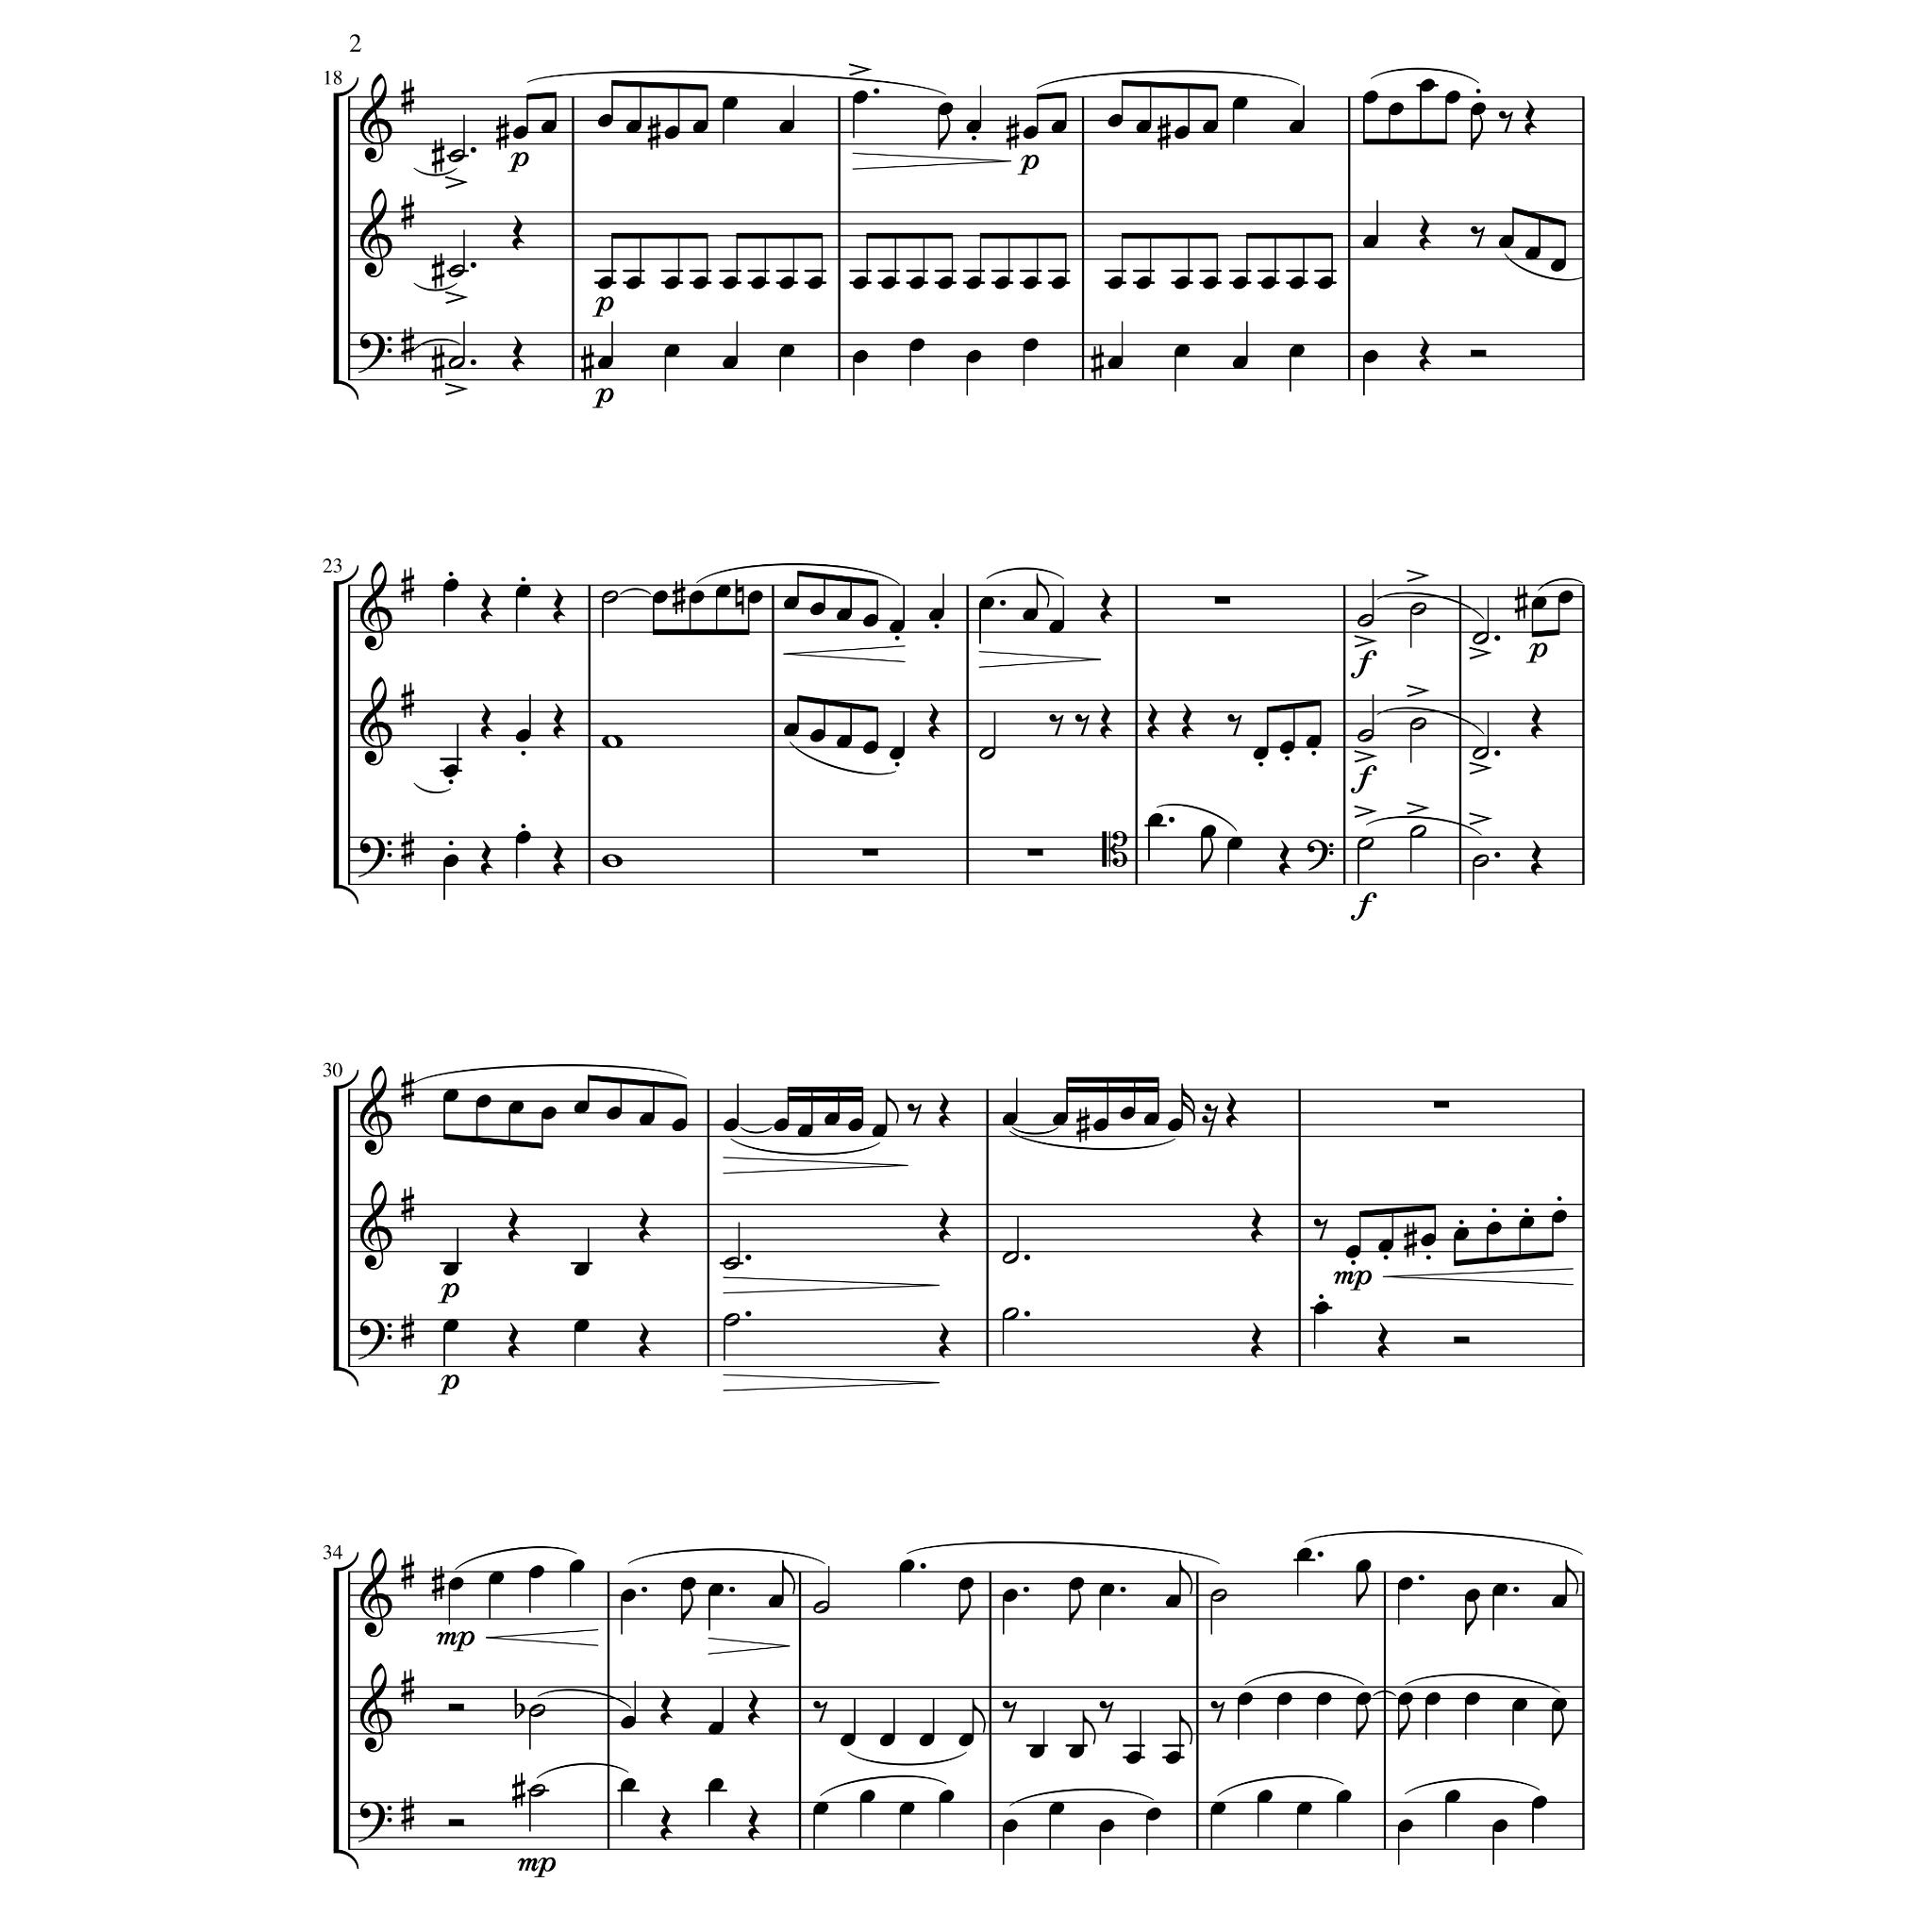fClef: (357, 332, 392, 374), (357, 837, 392, 878), (357, 1319, 392, 1360), (357, 1802, 392, 1843)
flag16thUp: (1181, 1085, 1196, 1124)
flag8thDown: (938, 115, 951, 151), (1201, 838, 1214, 874), (1356, 1572, 1369, 1607), (958, 1590, 972, 1625), (1398, 1706, 1411, 1740), (1356, 1706, 1369, 1740), (1472, 115, 1483, 151), (1070, 1590, 1081, 1625), (1553, 1710, 1564, 1746), (1466, 1600, 1477, 1636), (681, 1590, 692, 1625)
flag8thUp: (781, 1560, 796, 1596), (885, 1091, 900, 1124), (1036, 574, 1049, 609), (1179, 1560, 1192, 1596), (1566, 1560, 1579, 1596), (1083, 1711, 1096, 1745), (1179, 1711, 1192, 1745), (973, 1700, 986, 1734)
gClef: (359, 188, 391, 278), (359, 74, 391, 164), (359, 676, 391, 767), (359, 561, 391, 652), (359, 1180, 391, 1271), (359, 1065, 391, 1156), (359, 1663, 391, 1754), (359, 1548, 391, 1639)
noteheadBlack: (1202, 275, 1219, 291), (1174, 275, 1191, 291), (1174, 343, 1191, 358), (1289, 275, 1306, 291), (1289, 343, 1306, 358), (1317, 275, 1334, 291), (1470, 102, 1487, 117), (596, 113, 613, 128), (596, 275, 613, 291), (1226, 836, 1243, 851), (1200, 824, 1217, 840), (1530, 596, 1547, 611), (441, 764, 458, 779), (889, 619, 906, 634), (862, 613, 879, 628), (928, 608, 945, 623), (809, 602, 826, 617), (809, 728, 826, 743), (1119, 1106, 1136, 1121), (1551, 1209, 1568, 1224), (1485, 1221, 1502, 1236), (1453, 1226, 1470, 1241), (508, 1100, 525, 1115), (606, 1106, 623, 1121), (441, 1319, 458, 1334), (441, 1262, 458, 1277), (441, 1089, 458, 1104), (1098, 1819, 1115, 1834), (1164, 1594, 1181, 1609), (1164, 1751, 1181, 1766), (1145, 1807, 1162, 1823), (1551, 1594, 1568, 1609), (1396, 1819, 1413, 1834), (1355, 1558, 1372, 1574), (708, 1777, 724, 1792), (708, 1721, 724, 1736), (568, 1558, 585, 1574), (898, 1558, 915, 1574), (994, 275, 1009, 291), (1260, 275, 1275, 291), (1232, 96, 1247, 111), (1232, 275, 1247, 291), (1023, 275, 1038, 291), (1023, 338, 1038, 353), (1108, 113, 1123, 128), (1108, 275, 1123, 291), (1051, 275, 1066, 291), (1136, 275, 1151, 291), (1363, 349, 1378, 364), (1389, 102, 1404, 117), (664, 275, 679, 291), (664, 343, 679, 358), (626, 275, 641, 291), (881, 275, 896, 291), (853, 275, 868, 291), (853, 349, 868, 364), (966, 275, 981, 291), (966, 349, 981, 364), (909, 275, 924, 291), (909, 338, 924, 353), (938, 102, 953, 117), (938, 275, 953, 291), (751, 275, 766, 291), (692, 275, 708, 291), (723, 96, 738, 111), (723, 275, 738, 291), (808, 275, 823, 291), (779, 275, 794, 291), (779, 343, 794, 358), (1023, 608, 1038, 623), (1049, 619, 1064, 634), (515, 728, 530, 743), (515, 830, 530, 845), (836, 608, 851, 623), (979, 596, 994, 611), (783, 596, 798, 611), (783, 723, 798, 738), (1519, 1215, 1534, 1230), (574, 1319, 589, 1334), (574, 1262, 589, 1277), (574, 1100, 589, 1115), (541, 1106, 557, 1121), (475, 1094, 491, 1109), (1296, 1547, 1311, 1562), (1126, 1751, 1141, 1766), (1492, 1819, 1507, 1834), (1464, 1589, 1479, 1604), (768, 1594, 783, 1609), (621, 1715, 636, 1730), (621, 1589, 636, 1604), (621, 1777, 636, 1792), (1003, 1589, 1018, 1604), (1003, 1819, 1018, 1834), (1202, 121, 1219, 134), (1174, 126, 1191, 140), (1289, 121, 1306, 134), (1524, 247, 1541, 260), (1419, 79, 1436, 92), (596, 357, 613, 370), (1147, 813, 1164, 826), (1557, 591, 1574, 604), (441, 579, 458, 592), (441, 855, 458, 868), (889, 747, 906, 760), (862, 741, 879, 755), (747, 591, 764, 604), (1166, 1119, 1183, 1132), (1092, 1119, 1109, 1132), (1377, 1240, 1394, 1253), (638, 1113, 655, 1126), (847, 1119, 864, 1132), (823, 1113, 840, 1126), (1315, 1692, 1332, 1706), (1098, 1583, 1115, 1596), (1028, 1745, 1045, 1758), (1551, 1698, 1568, 1711), (1511, 1698, 1528, 1711), (1355, 1692, 1372, 1706), (1396, 1577, 1413, 1591), (1396, 1692, 1413, 1706), (1424, 1692, 1441, 1706), (708, 1583, 724, 1596), (447, 1577, 464, 1591), (528, 1566, 545, 1579), (938, 1790, 955, 1804), (898, 1802, 915, 1815), (1232, 357, 1247, 370), (1108, 357, 1123, 370), (1051, 121, 1066, 134), (1136, 121, 1151, 134), (1023, 126, 1038, 140), (1551, 258, 1566, 272), (1498, 236, 1513, 249), (1363, 91, 1378, 104), (1363, 236, 1378, 249), (1445, 91, 1460, 104), (541, 121, 557, 134), (664, 126, 679, 140), (626, 121, 641, 134), (513, 126, 528, 140), (853, 91, 868, 104), (966, 121, 981, 134), (692, 121, 708, 134), (723, 357, 738, 370), (779, 121, 794, 134), (1279, 741, 1294, 755), (1253, 747, 1268, 760), (1306, 736, 1321, 749), (653, 591, 668, 604), (689, 591, 704, 604), (715, 585, 730, 598), (515, 585, 530, 598), (836, 736, 851, 749), (1143, 1113, 1158, 1126), (1313, 1302, 1328, 1315), (1002, 1113, 1017, 1126), (1053, 1113, 1068, 1126), (1345, 1245, 1360, 1258), (1421, 1234, 1436, 1247), (798, 1124, 813, 1138), (774, 1119, 789, 1132), (872, 1124, 887, 1138), (723, 1119, 738, 1132), (672, 1119, 687, 1132), (1238, 1692, 1253, 1706), (1336, 1790, 1351, 1804), (1210, 1802, 1225, 1815), (1257, 1790, 1272, 1804), (1276, 1692, 1291, 1706), (1296, 1802, 1311, 1815), (1069, 1745, 1084, 1758), (1049, 1802, 1064, 1815), (1069, 1577, 1084, 1591), (1532, 1796, 1547, 1809), (1445, 1790, 1460, 1804), (1464, 1692, 1479, 1706), (1492, 1583, 1507, 1596), (681, 1577, 696, 1591), (489, 1572, 504, 1585), (919, 1734, 934, 1747), (958, 1577, 974, 1591), (958, 1734, 974, 1747), (879, 1734, 894, 1747), (813, 1802, 828, 1815), (860, 1790, 875, 1804), (840, 1734, 855, 1747)
noteheadHalf: (447, 149, 466, 164), (447, 264, 466, 279), (1357, 836, 1374, 851), (1357, 728, 1374, 743), (1357, 613, 1374, 628), (1409, 717, 1426, 732), (1409, 824, 1426, 840), (1409, 602, 1426, 617), (1002, 1251, 1019, 1266), (723, 1313, 740, 1328), (723, 1257, 740, 1272), (1210, 1589, 1227, 1604), (528, 1704, 545, 1719), (528, 1783, 545, 1798), (812, 1600, 829, 1615), (447, 357, 466, 370), (600, 591, 619, 604), (1472, 632, 1489, 645), (1472, 747, 1489, 760), (1472, 855, 1489, 868), (978, 747, 995, 760), (1002, 1307, 1019, 1321)
noteheadWhole: (602, 734, 623, 749), (602, 855, 623, 868)
rest16th: (1202, 1104, 1219, 1138)
rest8th: (1226, 713, 1241, 738), (1074, 713, 1090, 738), (1049, 713, 1064, 738), (1099, 1700, 1114, 1724), (1210, 1700, 1225, 1724), (1002, 1700, 1017, 1724), (813, 1700, 828, 1724), (1498, 111, 1513, 134), (1470, 226, 1485, 249), (1313, 1219, 1328, 1241), (907, 1104, 922, 1126)
restHalf: (1470, 350, 1487, 358), (1453, 1337, 1470, 1344), (447, 1704, 464, 1711), (447, 1819, 464, 1826)
restQuarter: (1419, 336, 1432, 374), (511, 336, 525, 374), (1278, 840, 1291, 877), (1530, 840, 1543, 877), (553, 840, 566, 877), (480, 840, 493, 877), (1524, 100, 1537, 136), (1419, 215, 1432, 251), (511, 215, 525, 251), (1099, 589, 1112, 625), (1099, 704, 1112, 740), (1147, 704, 1160, 740), (1181, 704, 1194, 740), (1530, 704, 1543, 740), (553, 589, 566, 625), (553, 704, 566, 740), (480, 589, 493, 625), (480, 704, 493, 740), (927, 704, 941, 740), (1225, 1092, 1239, 1128), (1250, 1323, 1263, 1358), (1250, 1207, 1263, 1243), (1377, 1323, 1391, 1358), (508, 1323, 521, 1358), (508, 1207, 521, 1243), (638, 1323, 651, 1358), (638, 1207, 651, 1243), (938, 1323, 951, 1358), (938, 1207, 951, 1243), (938, 1092, 951, 1128), (659, 1690, 673, 1726), (659, 1806, 673, 1841), (747, 1690, 760, 1726), (747, 1806, 760, 1841)
restWhole: (1213, 597, 1230, 605), (1026, 849, 1043, 857), (861, 849, 878, 857), (1434, 1101, 1449, 1108)
